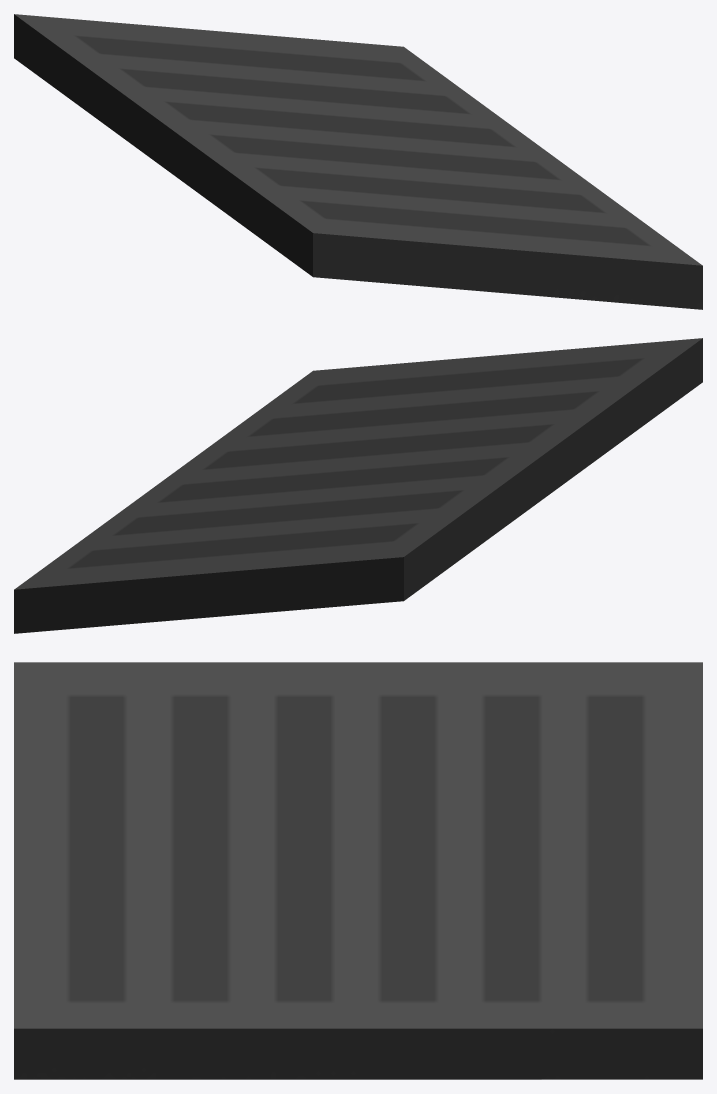
Rendered from dumpster_lid.fbx.
3 renders of one model, top to bottom at view 1: azimuth 30°, elevation 25°; view 2: azimuth 150°, elevation 25°; view 3: azimuth 270°, elevation 25°, orthographic. The views are drawn at different scales.
Visible parts, largest first — view 1: dumpster_mesh; view 2: dumpster_mesh; view 3: dumpster_mesh.
Boxes of the visible parts, x1=… form: dumpster_mesh: x1=14, y1=14, x2=702, y2=309; dumpster_mesh: x1=14, y1=338, x2=702, y2=633; dumpster_mesh: x1=14, y1=662, x2=702, y2=1079.
Bounding box in the file's own units: 2.19 × 0.9216 × 2.91.
1 material, 1 textured.
